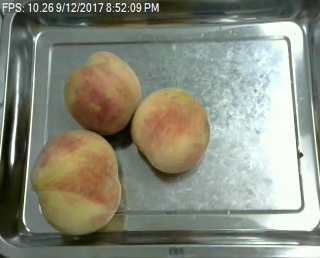Peach: (33, 127, 122, 236), (131, 87, 210, 174), (63, 49, 142, 134)
